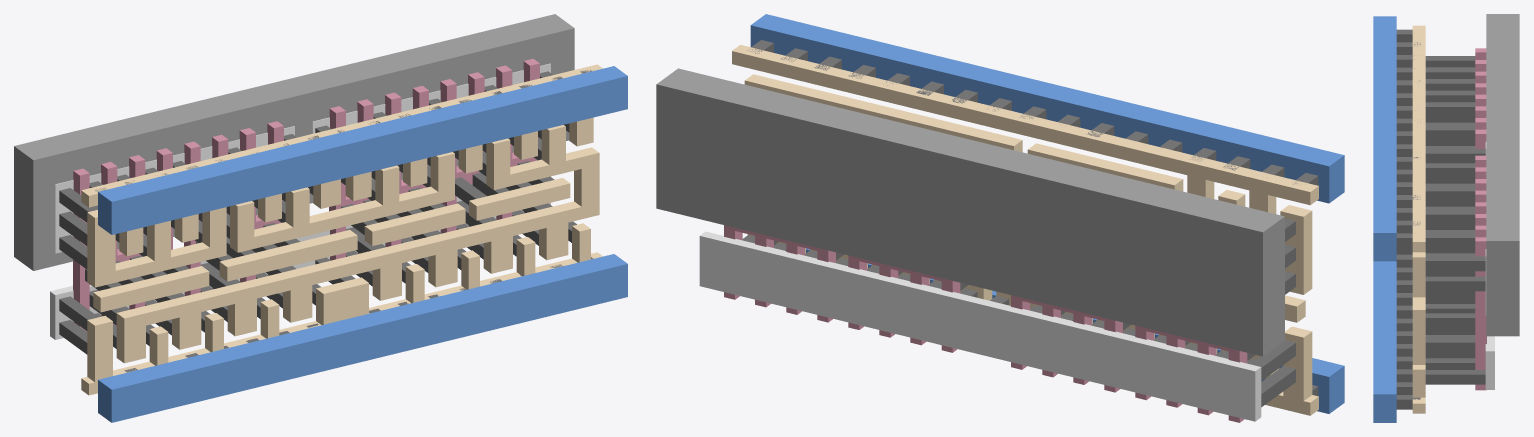
Rendered from sky130_fd_sc_hd__nor4_4.gds.gltf.
The picture shows the model from 3 angles, left to right: view 1: azimuth 30°, elevation 25°; view 2: azimuth 150°, elevation 25°; view 3: azimuth 270°, elevation 25°; orthographic projection. The views are drawn at different scales.
Visible parts, largest first — view 1: sky130_fd_sc_hd__nor4_4_li1, sky130_fd_sc_hd__nor4_4_met1, sky130_fd_sc_hd__nor4_4_nwell, sky130_fd_sc_hd__nor4_4_licon, sky130_fd_sc_hd__nor4_4_poly, sky130_fd_sc_hd__nor4_4_diff, sky130_fd_sc_hd__nor4_4_mcon; view 2: sky130_fd_sc_hd__nor4_4_nwell, sky130_fd_sc_hd__nor4_4_diff, sky130_fd_sc_hd__nor4_4_li1, sky130_fd_sc_hd__nor4_4_met1, sky130_fd_sc_hd__nor4_4_poly, sky130_fd_sc_hd__nor4_4_licon, sky130_fd_sc_hd__nor4_4_mcon; view 3: sky130_fd_sc_hd__nor4_4_licon, sky130_fd_sc_hd__nor4_4_nwell, sky130_fd_sc_hd__nor4_4_met1, sky130_fd_sc_hd__nor4_4_mcon, sky130_fd_sc_hd__nor4_4_li1, sky130_fd_sc_hd__nor4_4_poly, sky130_fd_sc_hd__nor4_4_diff.
Boxes of the visible parts, x1,y1,x2,y2 form: sky130_fd_sc_hd__nor4_4_li1: (81, 64, 602, 395); sky130_fd_sc_hd__nor4_4_met1: (98, 66, 627, 422); sky130_fd_sc_hd__nor4_4_nwell: (14, 14, 574, 270); sky130_fd_sc_hd__nor4_4_licon: (59, 71, 576, 354); sky130_fd_sc_hd__nor4_4_poly: (73, 58, 539, 331); sky130_fd_sc_hd__nor4_4_diff: (50, 63, 550, 339); sky130_fd_sc_hd__nor4_4_mcon: (95, 70, 593, 372); sky130_fd_sc_hd__nor4_4_nwell: (656, 68, 1284, 356); sky130_fd_sc_hd__nor4_4_diff: (699, 231, 1261, 421); sky130_fd_sc_hd__nor4_4_li1: (732, 45, 1318, 415); sky130_fd_sc_hd__nor4_4_met1: (750, 14, 1344, 413); sky130_fd_sc_hd__nor4_4_poly: (724, 225, 1247, 422); sky130_fd_sc_hd__nor4_4_licon: (742, 218, 1295, 407); sky130_fd_sc_hd__nor4_4_mcon: (747, 40, 1318, 396); sky130_fd_sc_hd__nor4_4_licon: (1425, 56, 1485, 384); sky130_fd_sc_hd__nor4_4_nwell: (1486, 14, 1519, 336); sky130_fd_sc_hd__nor4_4_met1: (1373, 16, 1396, 422); sky130_fd_sc_hd__nor4_4_mcon: (1396, 29, 1420, 409); sky130_fd_sc_hd__nor4_4_li1: (1412, 25, 1425, 413); sky130_fd_sc_hd__nor4_4_poly: (1475, 48, 1486, 390); sky130_fd_sc_hd__nor4_4_diff: (1485, 142, 1494, 389).
Size of the model in its own units: 8.2 by 3.2 by 2.24.
